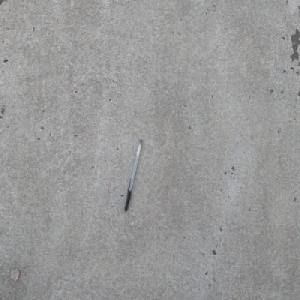Pen: (123, 138, 143, 213)
